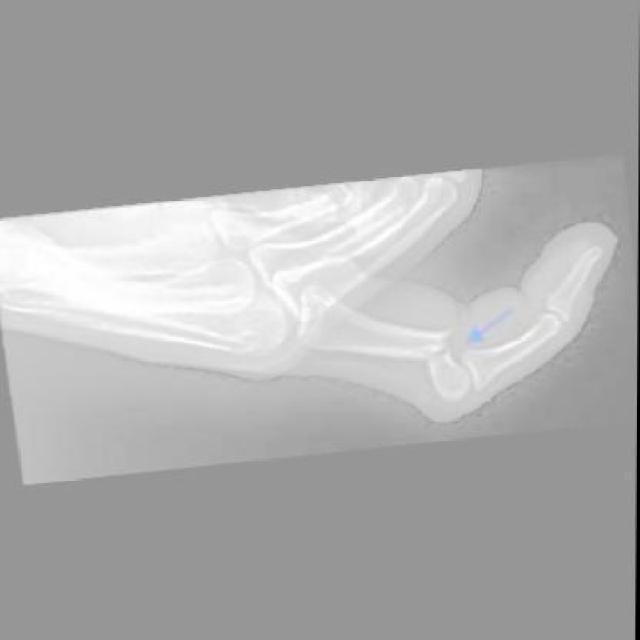Fracture: (408, 328, 490, 404)
